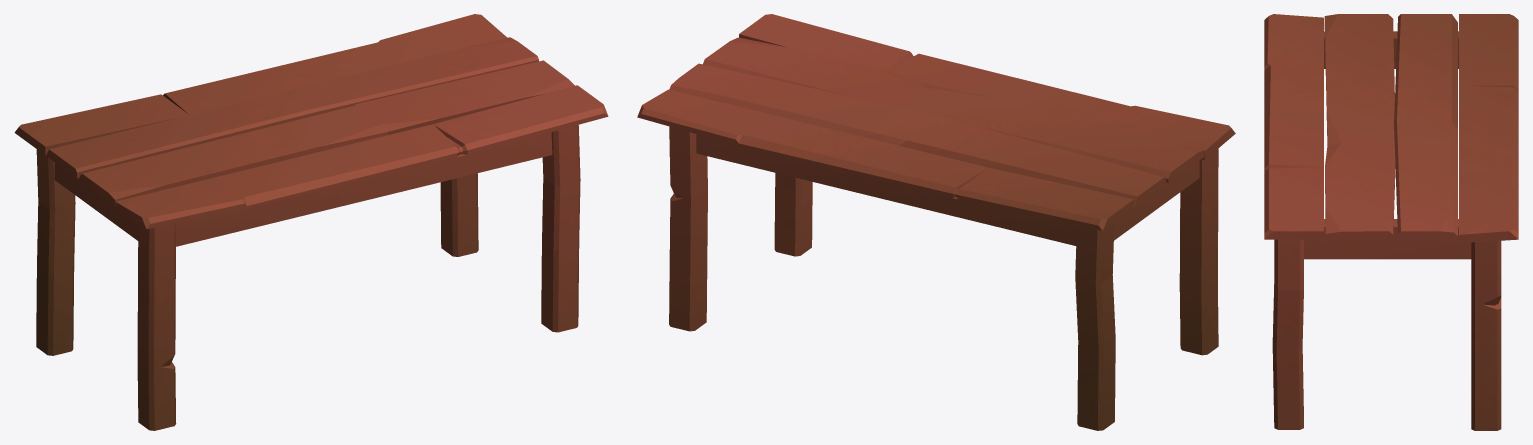
3 views of the same model, side by side, from view 1: azimuth 30°, elevation 25°; view 2: azimuth 150°, elevation 25°; view 3: azimuth 270°, elevation 25° (orthographic). The views are drawn at different scales.
Parts seen in each view (by area): view 1: WoodenTable; view 2: WoodenTable; view 3: WoodenTable.
Part boxes in pixels (bbox=[...]): WoodenTable: bbox=[14, 14, 608, 430]; WoodenTable: bbox=[637, 14, 1235, 430]; WoodenTable: bbox=[1264, 14, 1518, 430].
Size of the model in its own units: 160 by 73.28 by 79.21.
Materials: 1 (1 with a texture image).
